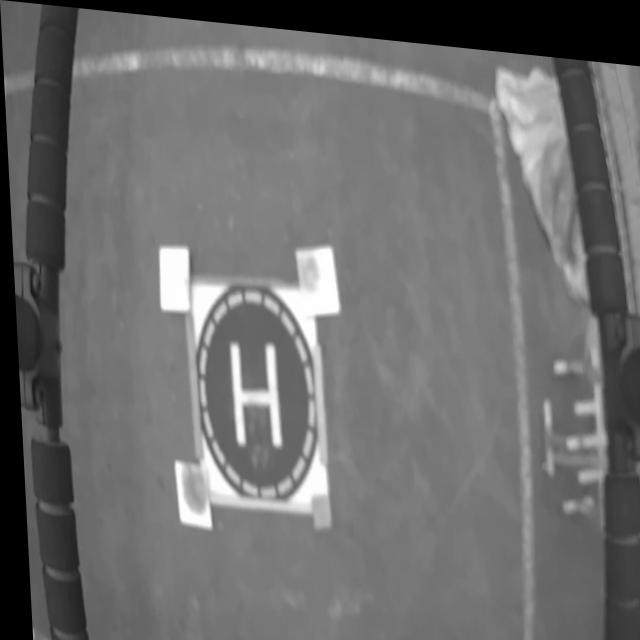Helipad: (227, 337, 279, 445)
